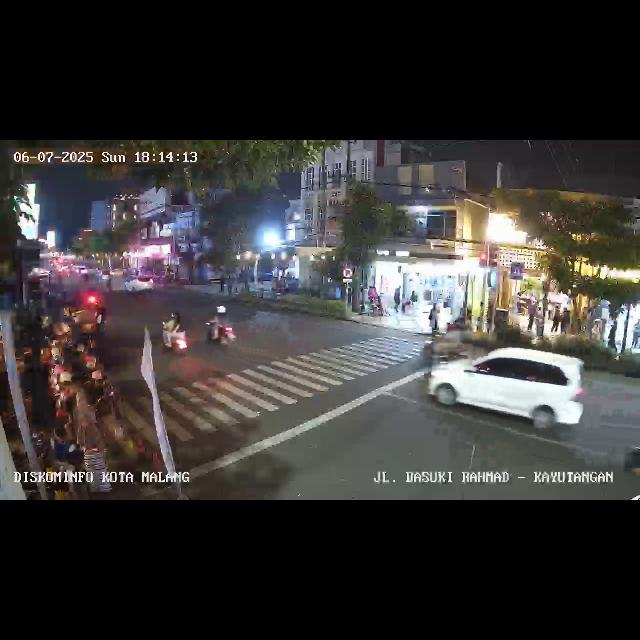car: (428, 346, 588, 436), (122, 274, 156, 294)
motorcycle: (421, 326, 469, 366), (204, 305, 236, 351), (160, 312, 190, 358)
person: (80, 407, 112, 491), (428, 302, 439, 334), (406, 287, 418, 315), (591, 316, 603, 344), (608, 321, 618, 354), (560, 304, 570, 336), (550, 304, 560, 336), (526, 302, 534, 336), (392, 286, 401, 316), (368, 286, 378, 312), (632, 320, 640, 350)
